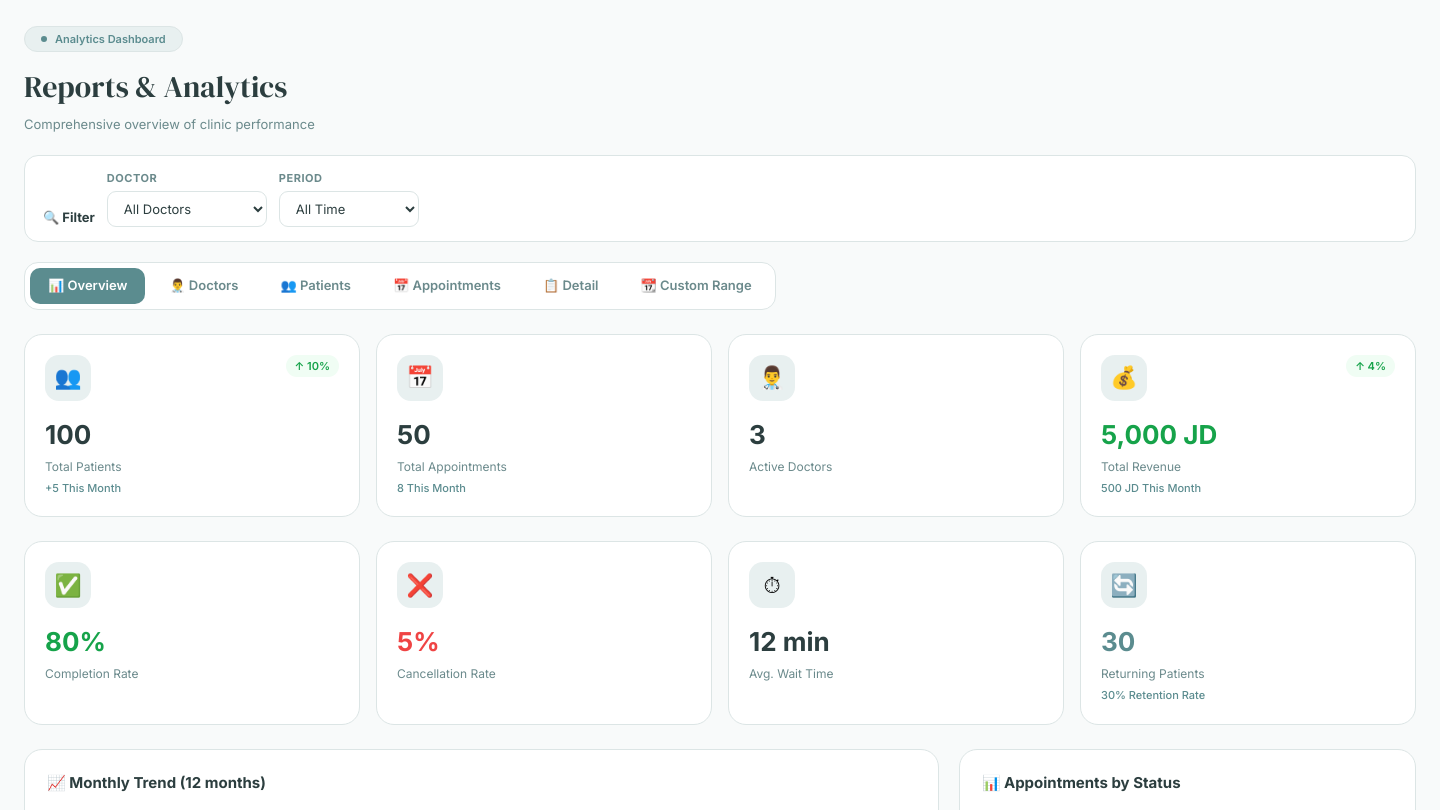
Test: Reports › filters doctor performance by the selected doctor
Check: the text "Total Patients" is shown, box [45, 459, 122, 474]
Select "Dr. Ali" in the 1st dropdown at (187, 209), box [107, 191, 267, 227]
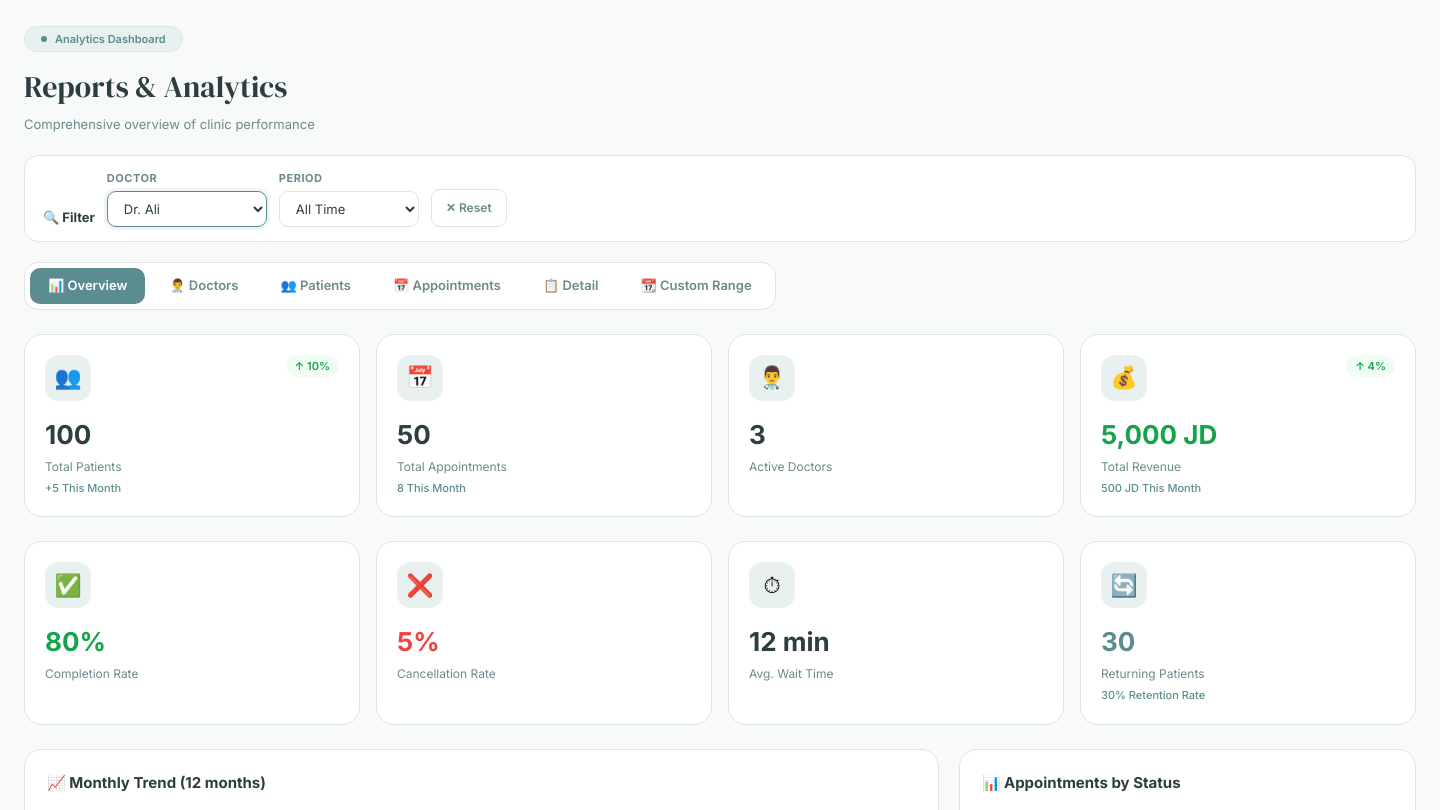
Click the button "👨‍⚕️ Doctors" at (204, 286), box [151, 268, 256, 304]
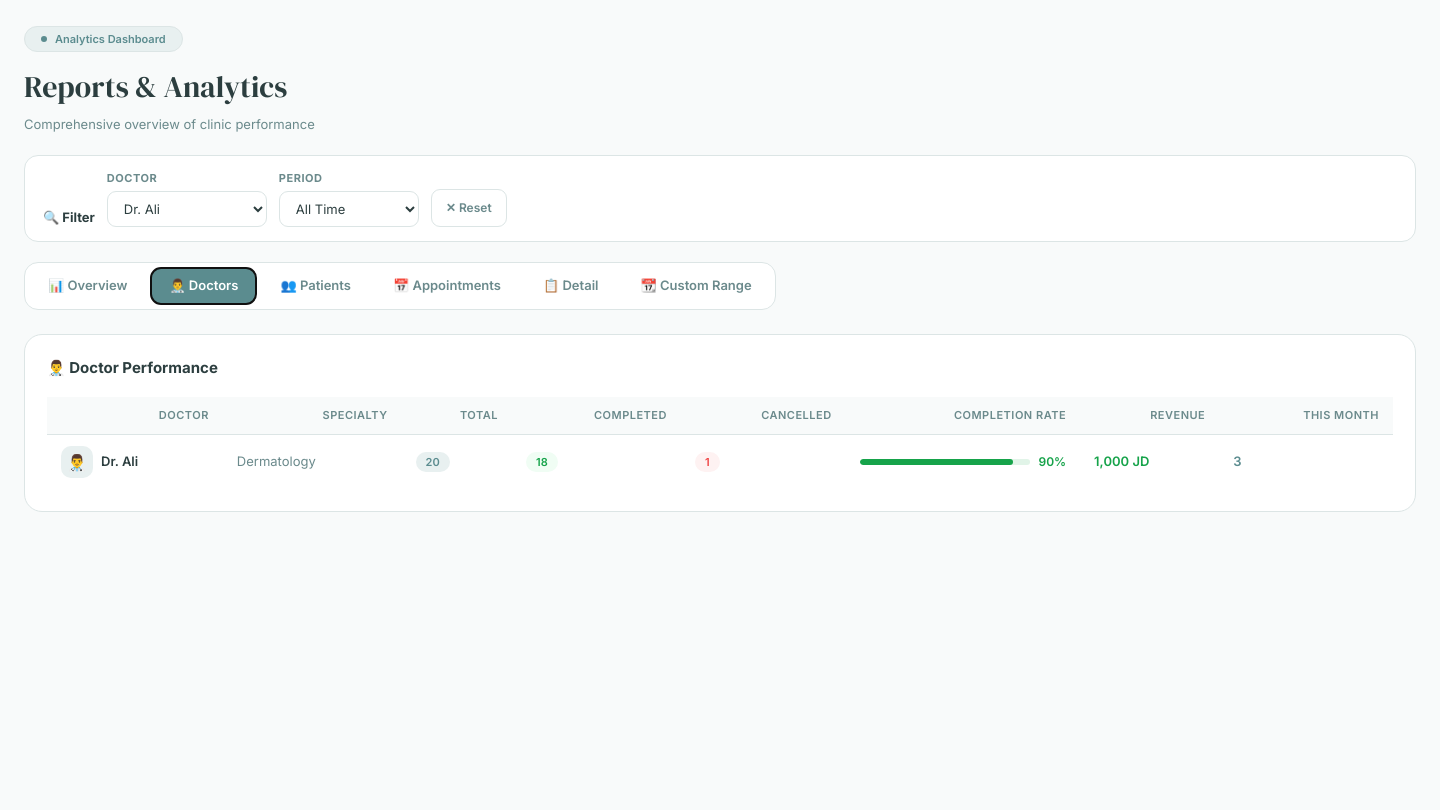
Check: the text "Dr. Ali" is shown, box [101, 453, 138, 469]
